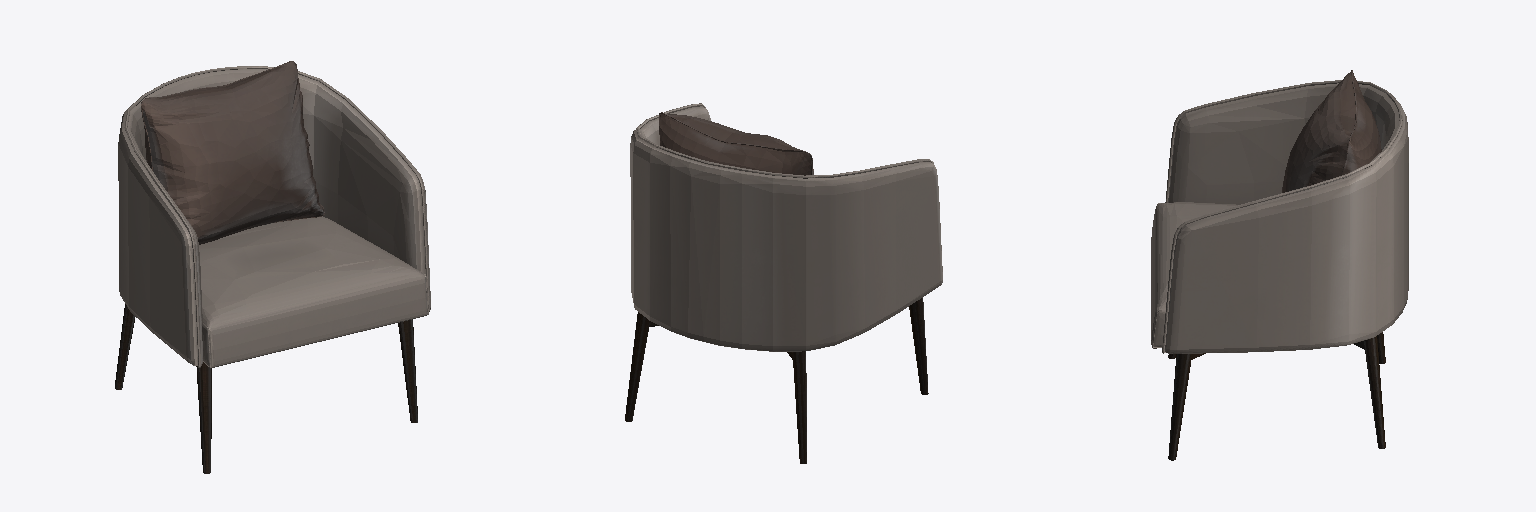
3 views of the same model, side by side, from view 1: azimuth 30°, elevation 25°; view 2: azimuth 150°, elevation 25°; view 3: azimuth 270°, elevation 25° (orthographic).
Visible parts, largest first — view 1: solid_002, solid_003, solid_001; view 2: solid_002, solid_003, solid_001; view 3: solid_002, solid_003, solid_001.
Part boxes in pixels (bbox=[...]): solid_002: bbox=[118, 66, 430, 367]; solid_003: bbox=[141, 61, 324, 244]; solid_001: bbox=[115, 304, 417, 473]; solid_002: bbox=[630, 103, 942, 351]; solid_003: bbox=[659, 112, 813, 175]; solid_001: bbox=[625, 298, 928, 463]; solid_002: bbox=[1151, 80, 1408, 353]; solid_003: bbox=[1282, 70, 1381, 192]; solid_001: bbox=[1168, 332, 1385, 460].
Size of the model in its own units: 1.17 by 1.41 by 1.08.
Materials: 1 (1 with a texture image).